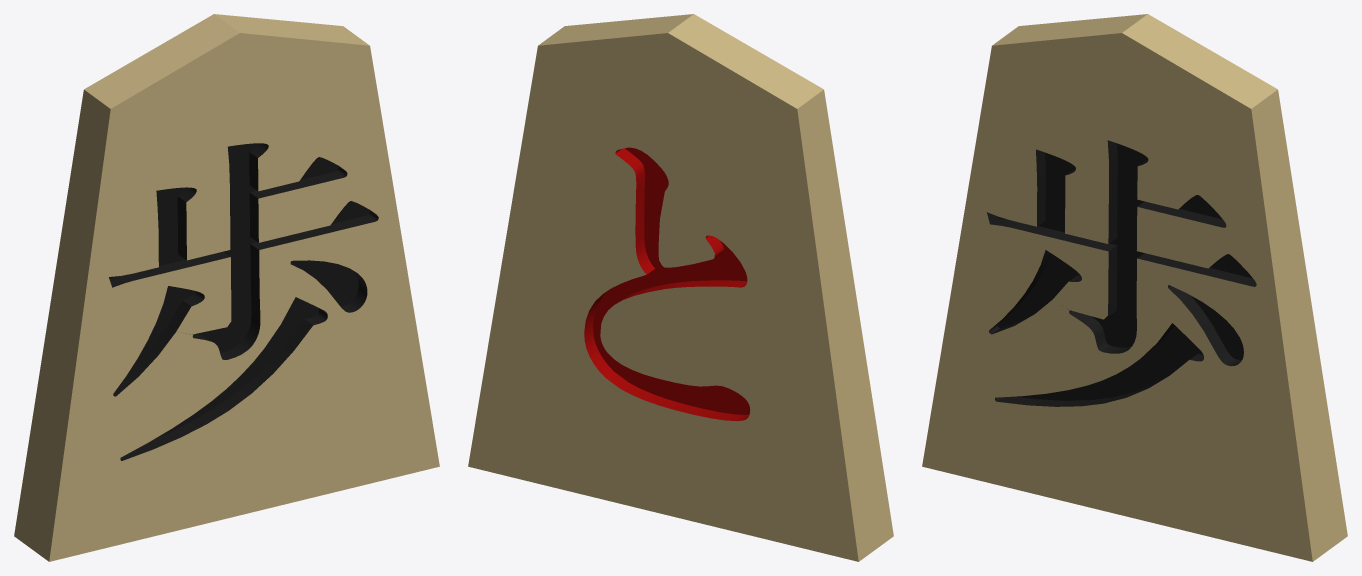
3 renders of one model, left to right at view 1: azimuth 30°, elevation 25°; view 2: azimuth 150°, elevation 25°; view 3: azimuth 330°, elevation 25°, orthographic.
Visible parts, largest first — view 1: hu; view 2: hu; view 3: hu.
Boxes of the visible parts, x1,y1,x2,y2 form: hu: (14, 14, 439, 561); hu: (468, 14, 893, 561); hu: (922, 14, 1347, 561).
Bounding box in the file's own units: 0.0257 × 0.03 × 0.004.
